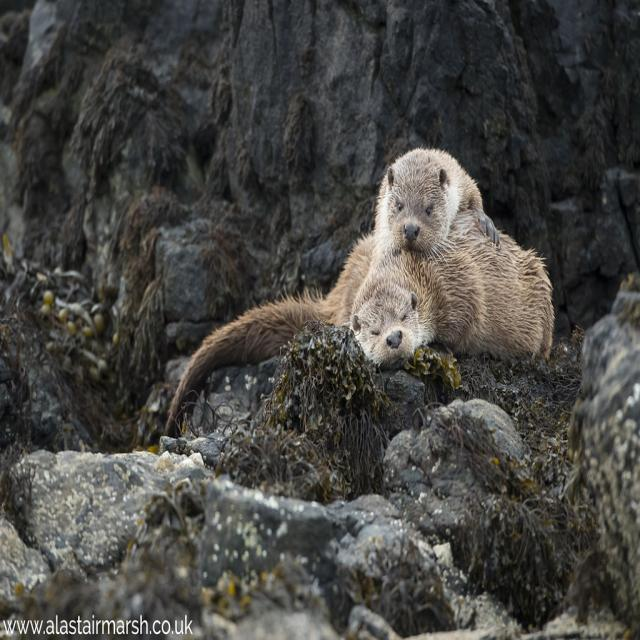otter: (343, 220, 542, 364), (376, 150, 484, 254)
